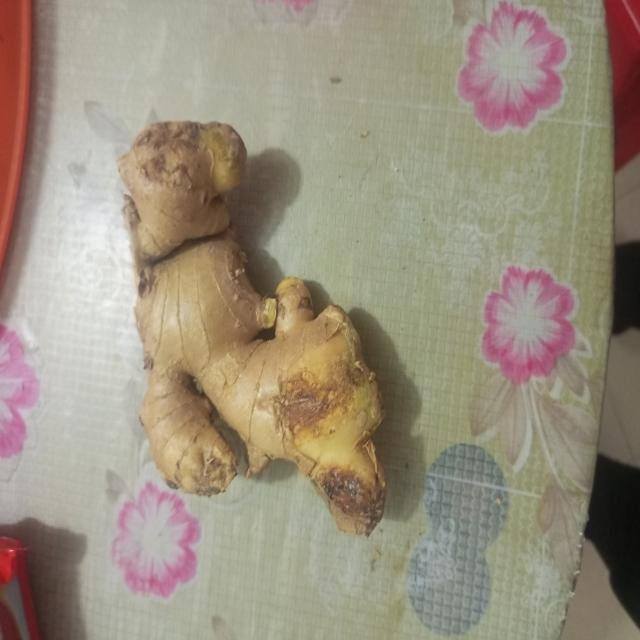ginger: (124, 120, 378, 530)
